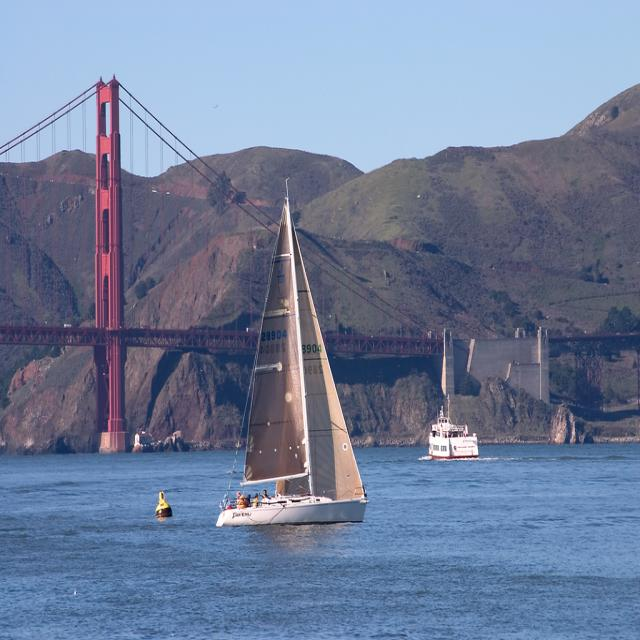Boat: (214, 195, 382, 544), (429, 398, 480, 462)
